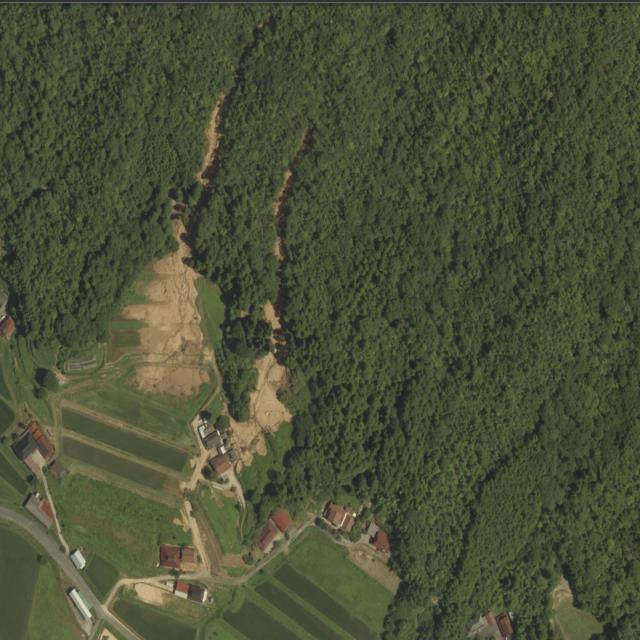landslide: (118, 204, 217, 368), (230, 353, 293, 470), (196, 94, 224, 185), (272, 167, 296, 262), (294, 127, 313, 160), (264, 300, 282, 330), (264, 301, 282, 330)
